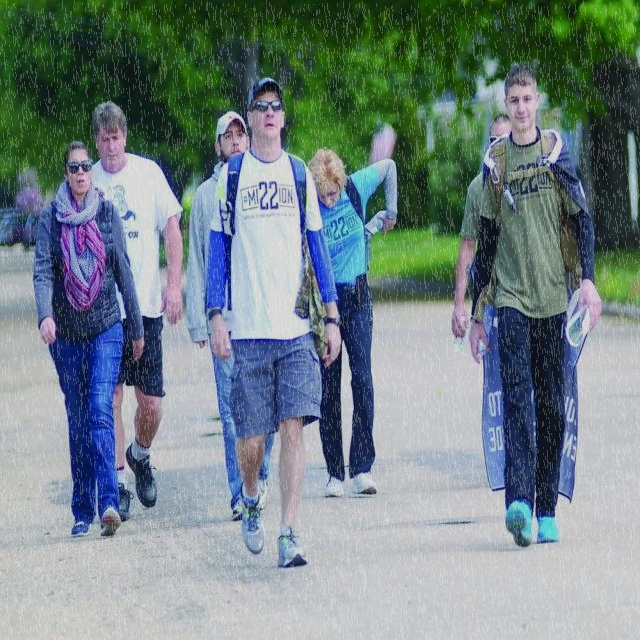pessoa: (202, 72, 344, 572), (466, 61, 604, 552), (29, 137, 148, 542), (86, 100, 186, 526), (184, 109, 276, 522), (305, 144, 399, 498), (451, 113, 514, 340)
